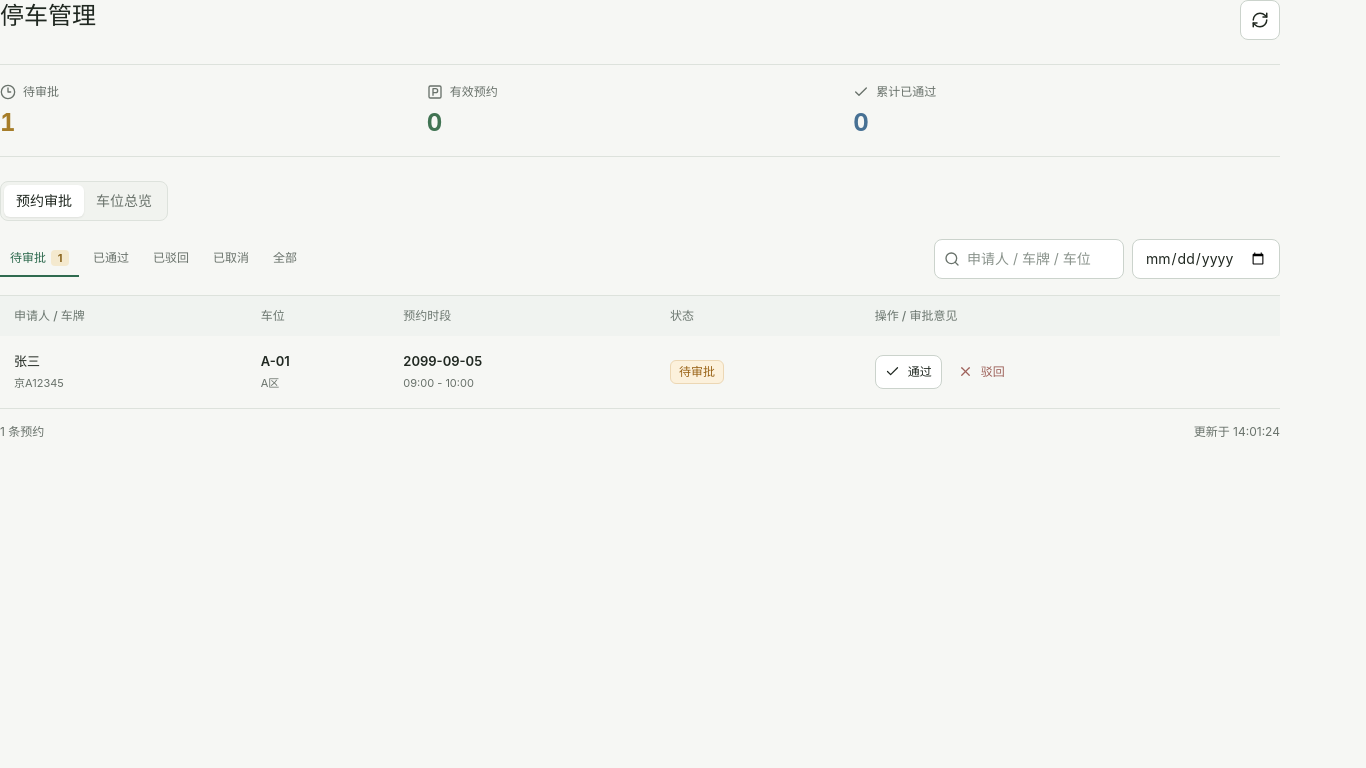
Test: property parking approval › requires a rejection reason before sending a review
Step 1. Click the button with aria-label "驳回 A-01 的预约申请" → click(981, 372), box [948, 355, 1015, 389]
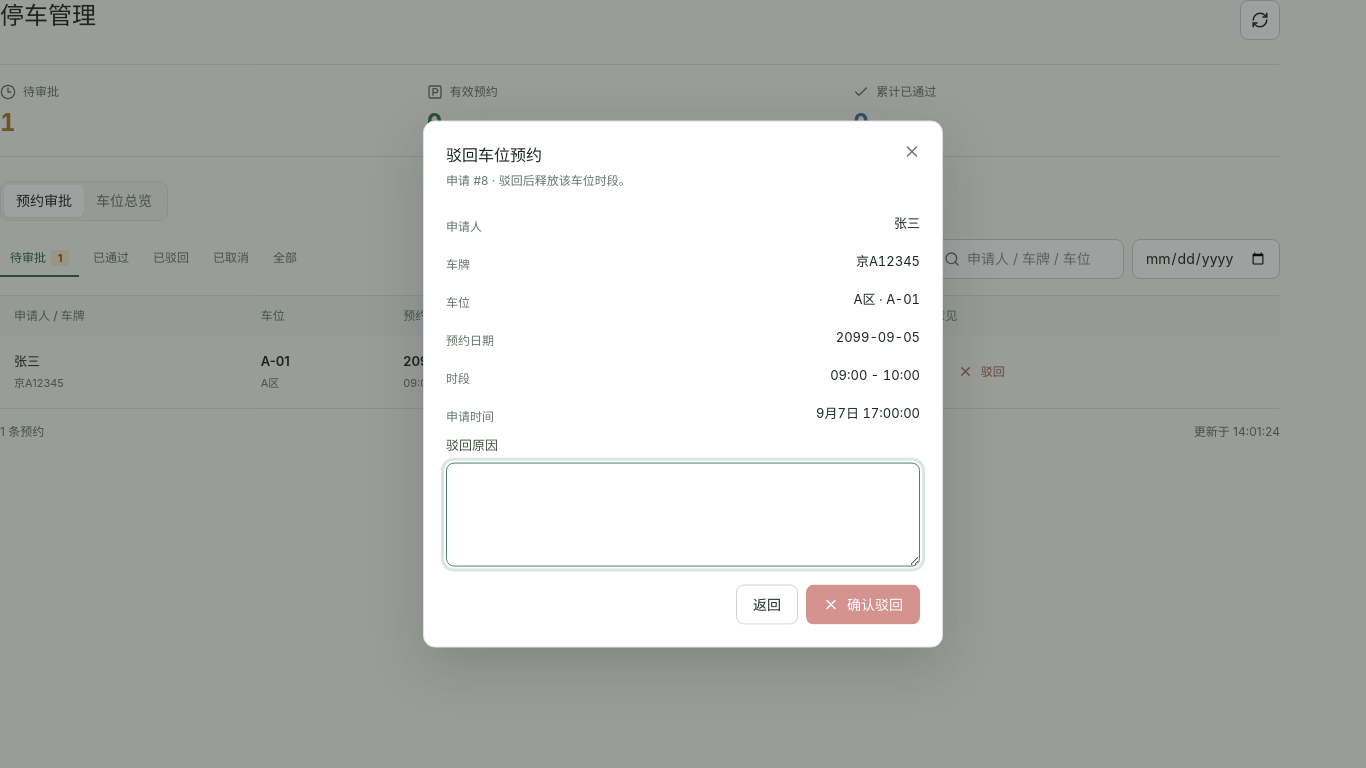
Now the button "确认驳回" is disabled, box [806, 584, 920, 624]
Step 2. Type "该车位正在安排维修" into the text box labelled "驳回原因" → (683, 514), box [446, 462, 920, 566]
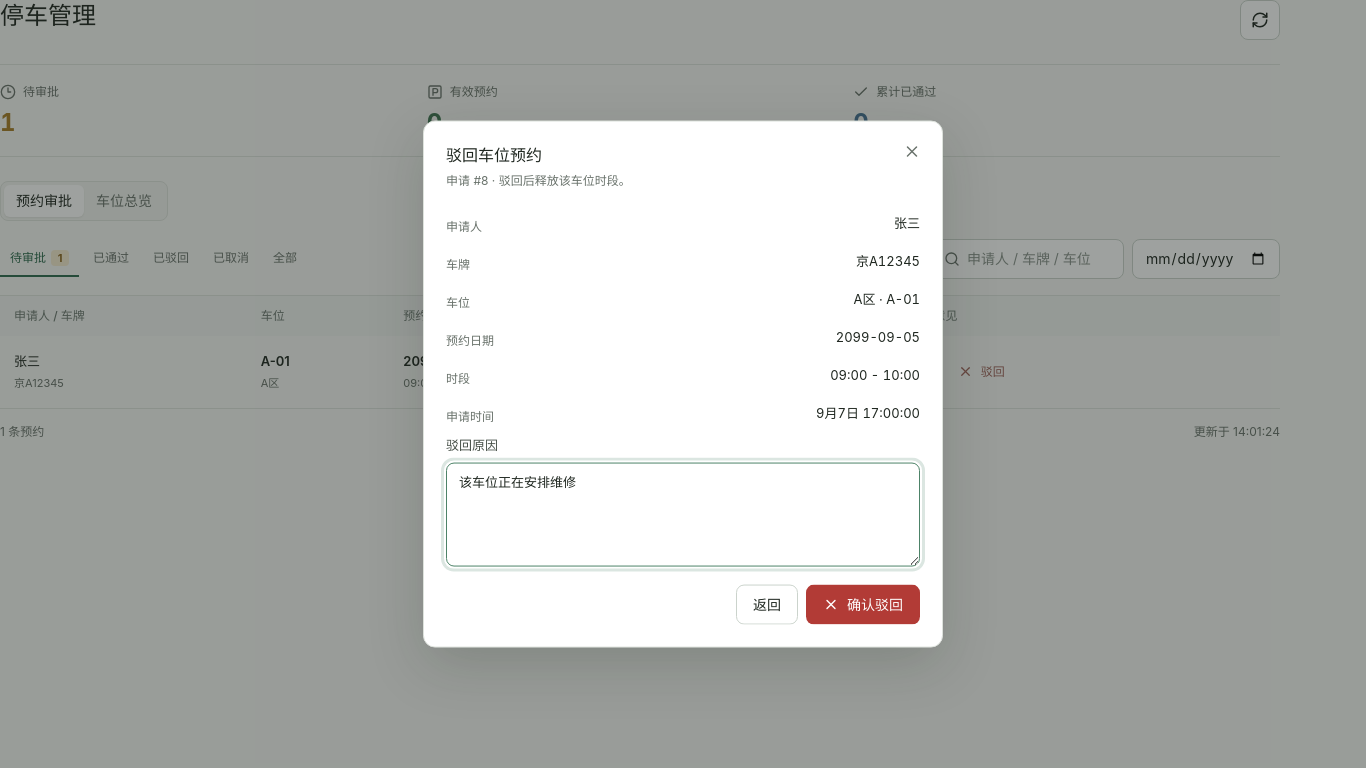
Step 3. Click the button "确认驳回" → click(863, 604), box [806, 584, 920, 624]
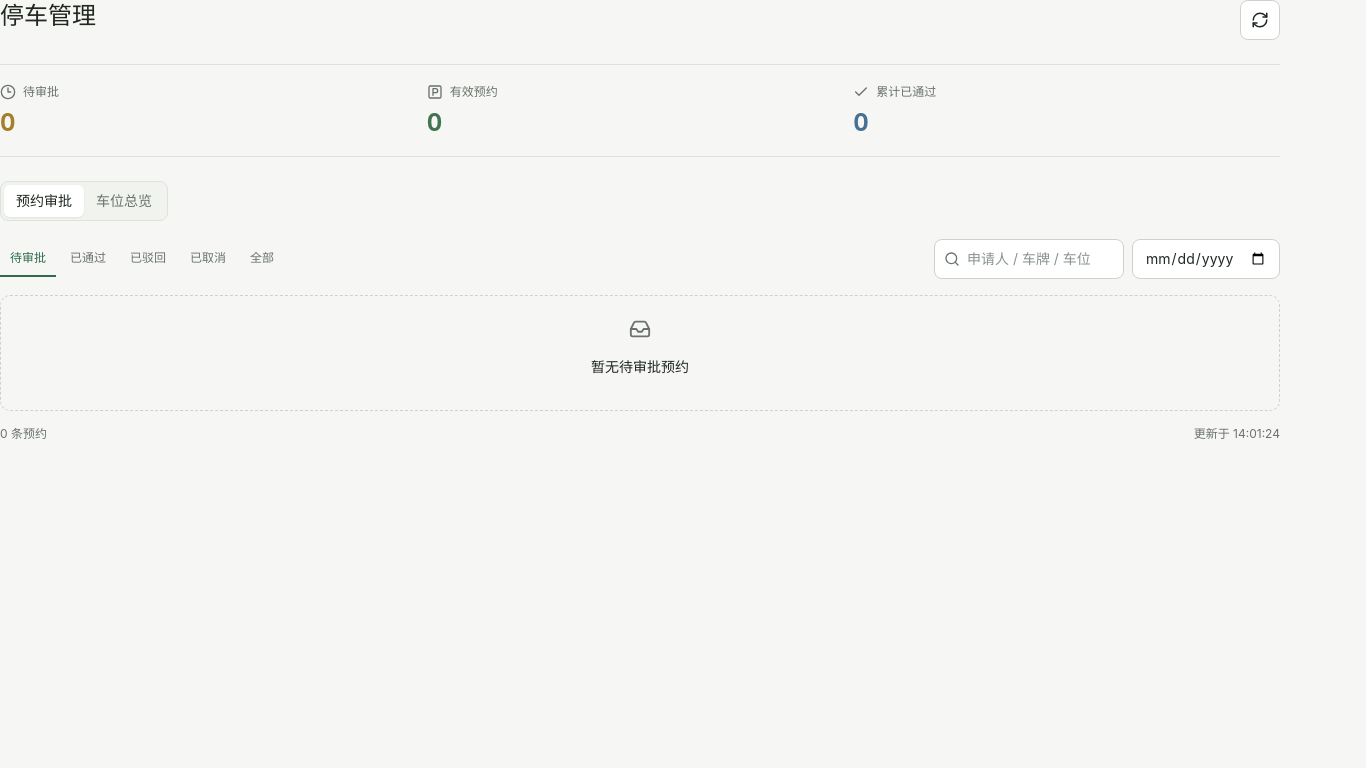
Now the text "暂无待审批预约" is shown, box [591, 358, 689, 375]
